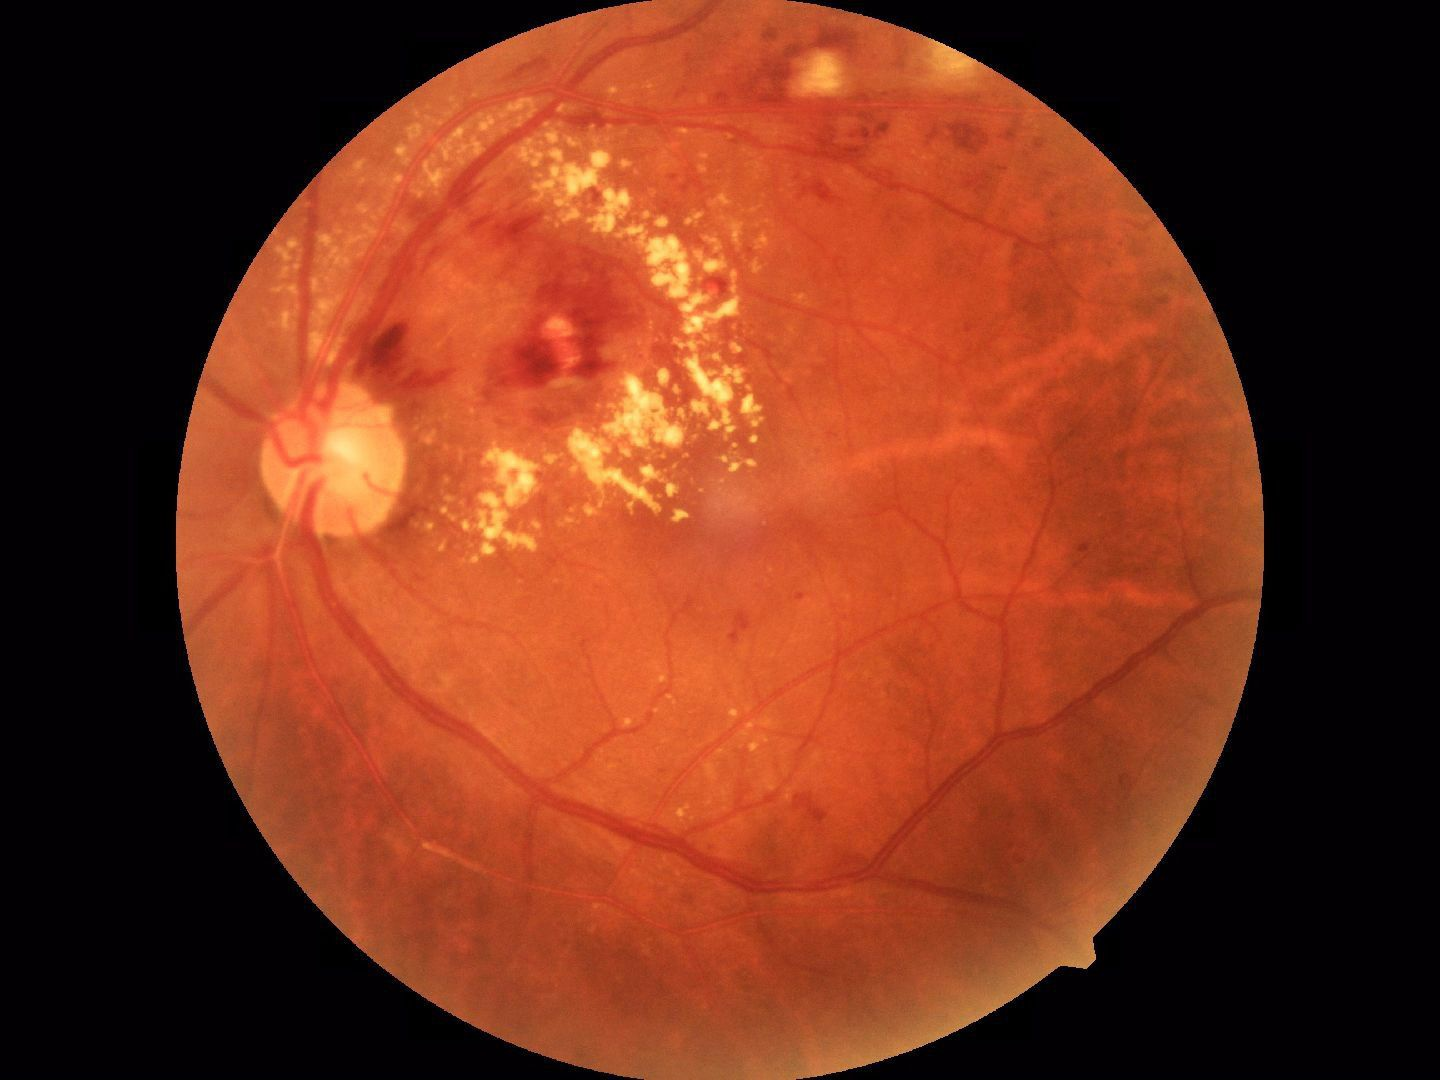Exudates: (471, 419, 692, 547), (536, 130, 719, 272), (658, 279, 769, 472)
Hemorrhages: (509, 293, 615, 399)
Optic-Disc: (259, 385, 410, 531)
Venules: (560, 786, 946, 898)
